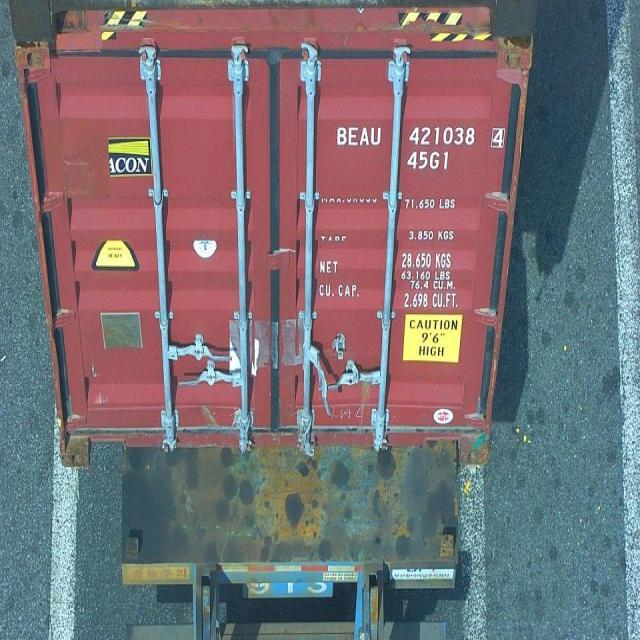ISO: (404, 150, 450, 172)
container_number: (339, 124, 506, 150)
